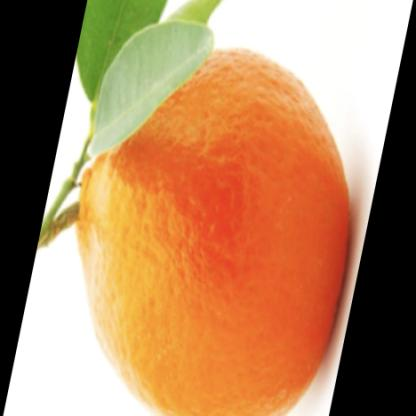fresh: (73, 45, 354, 414)
